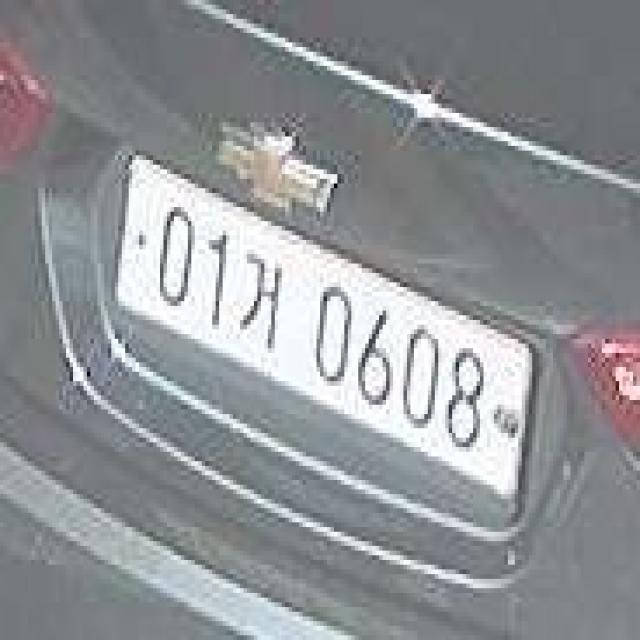illegal_plate: (106, 156, 539, 524)
